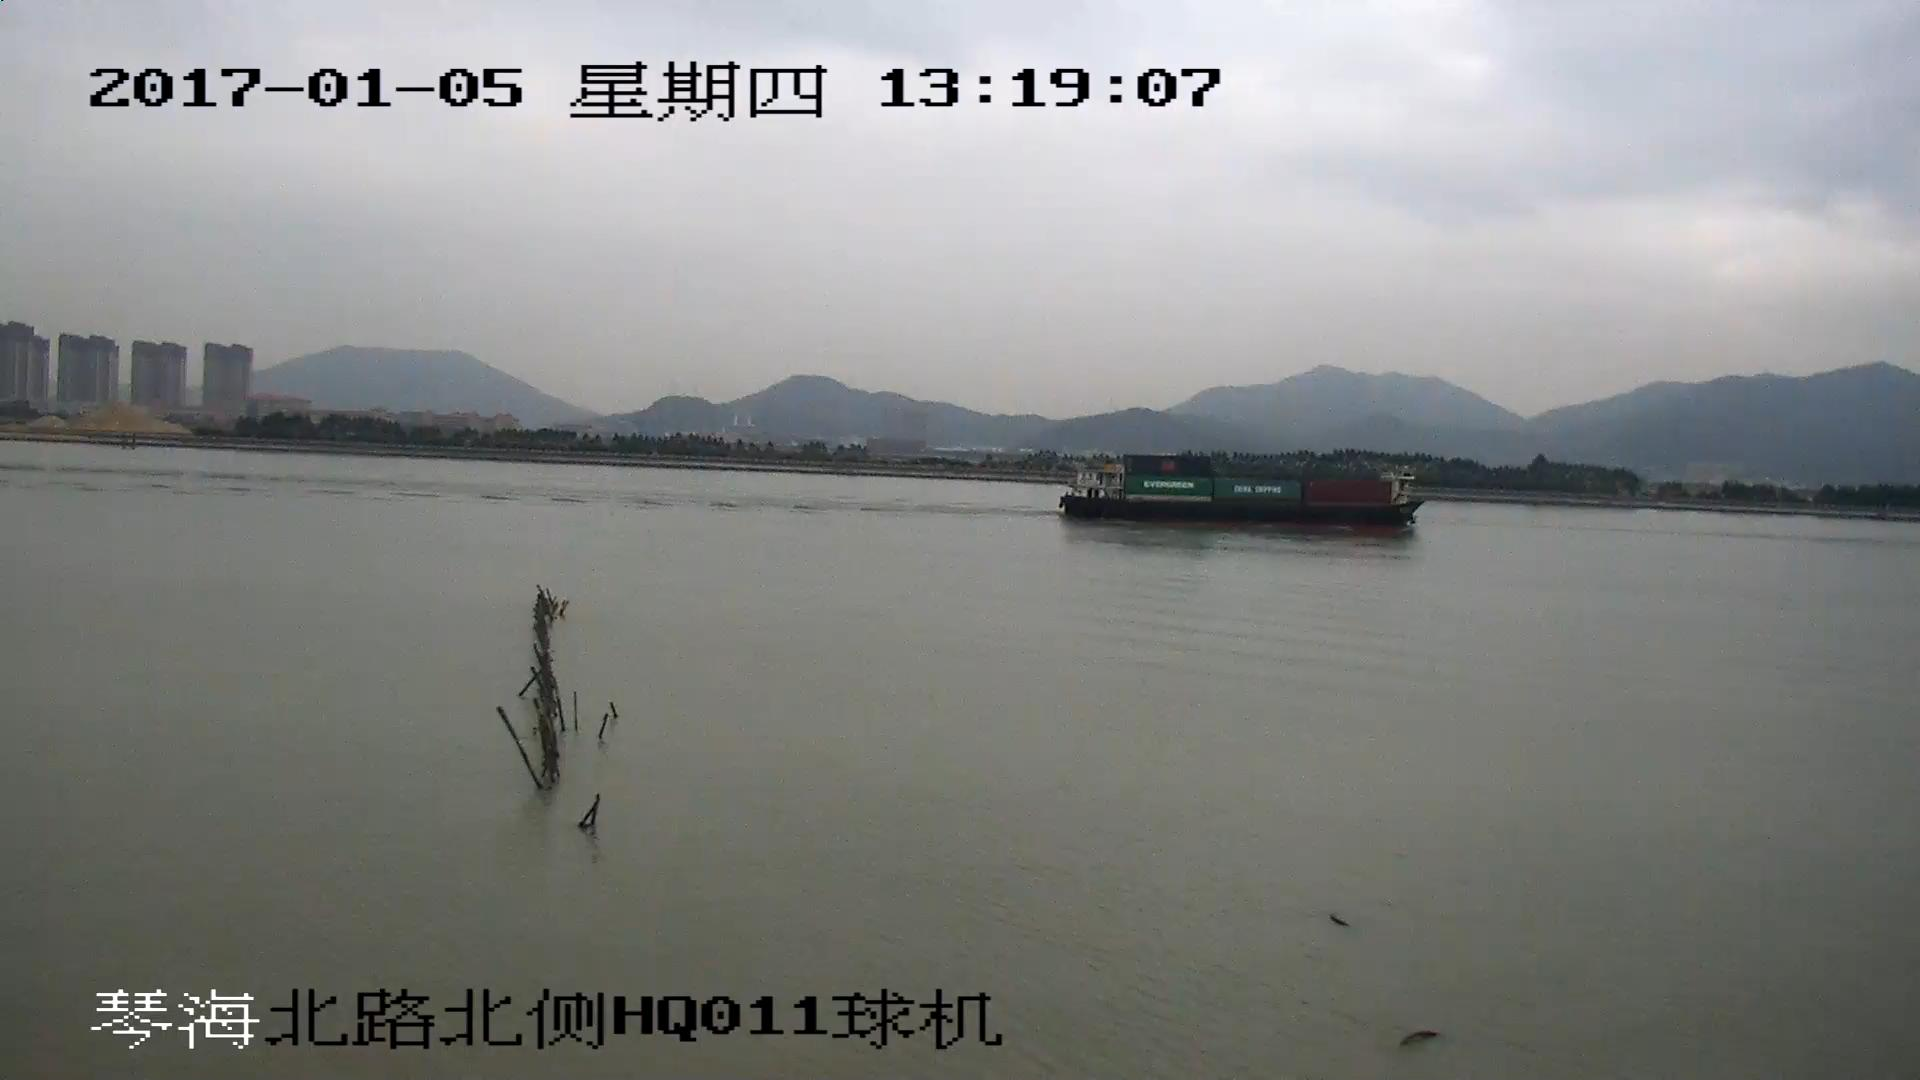container ship: (1059, 455, 1420, 532)
